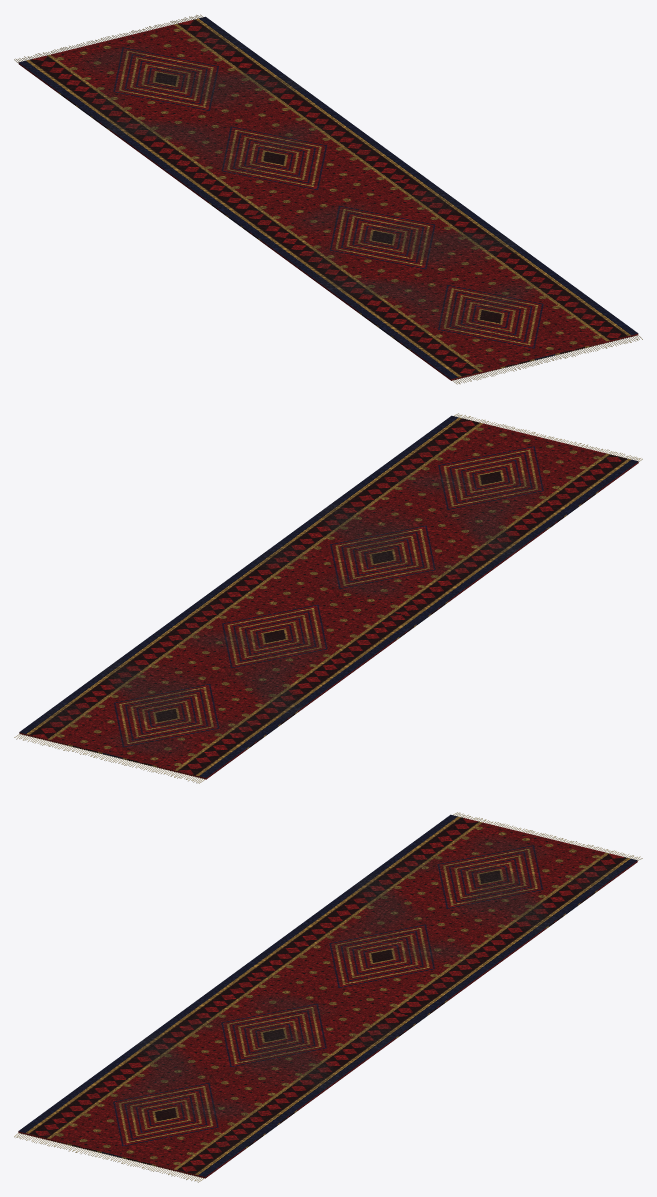
Rendered from Carpet_Runner.gltf.
3 views of the same model, one above another, from view 1: azimuth 30°, elevation 25°; view 2: azimuth 150°, elevation 25°; view 3: azimuth 330°, elevation 25° (orthographic).
Visible parts, largest first — view 1: Carpet_Runner_Body, Carpet_Runner_Fringe; view 2: Carpet_Runner_Body, Carpet_Runner_Fringe; view 3: Carpet_Runner_Body, Carpet_Runner_Fringe.
Part boxes in pixels (box(x1,y1,x2,y2)): Carpet_Runner_Body: box(18, 16, 638, 380); Carpet_Runner_Fringe: box(14, 14, 642, 384); Carpet_Runner_Body: box(19, 415, 638, 779); Carpet_Runner_Fringe: box(14, 413, 642, 783); Carpet_Runner_Body: box(18, 814, 637, 1178); Carpet_Runner_Fringe: box(14, 812, 642, 1182).
Size of the model in its own units: 1.2 by 0.0117 by 4.94.
2 materials, 1 textured.
